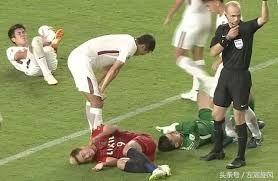bending: (66, 25, 160, 142)
down: (154, 81, 257, 153), (64, 125, 175, 178), (2, 18, 65, 88)
up: (201, 1, 274, 173), (162, 1, 215, 108)
